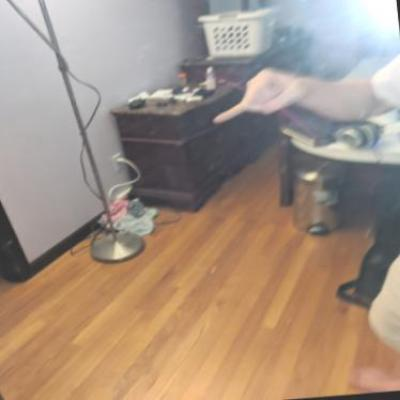hand: (203, 58, 314, 130)
